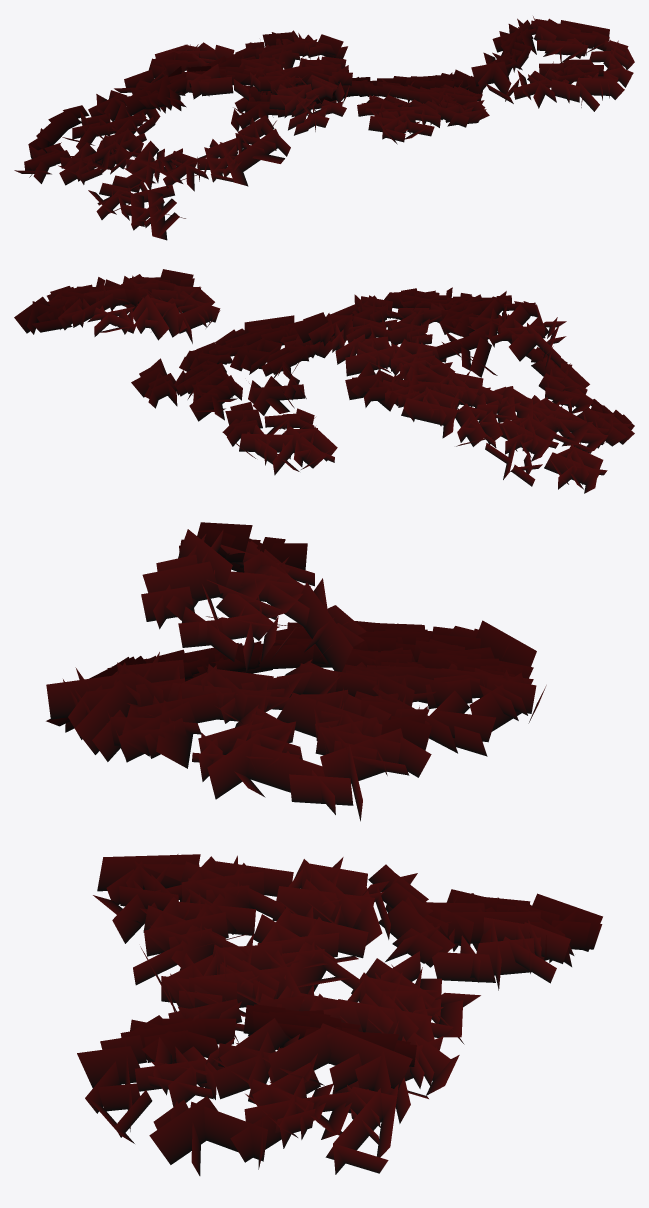
3 renders of one model, top to bottom at view 1: azimuth 30°, elevation 25°; view 2: azimuth 150°, elevation 25°; view 3: azimuth 270°, elevation 25°, orthographic. The views are drawn at different scales.
Visible parts, largest first — view 1: G:\FFXIV-MapTools\exports\d2f2\bg\ex1\02_dra_d2\fld\d2f2\bgp; view 2: G:\FFXIV-MapTools\exports\d2f2\bg\ex1\02_dra_d2\fld\d2f2\bgp; view 3: G:\FFXIV-MapTools\exports\d2f2\bg\ex1\02_dra_d2\fld\d2f2\bgp.
Part boxes in pixels (x1,y1,x2,y2): G:\FFXIV-MapTools\exports\d2f2\bg\ex1\02_dra_d2\fld\d2f2\bgp: (14, 16, 634, 240); G:\FFXIV-MapTools\exports\d2f2\bg\ex1\02_dra_d2\fld\d2f2\bgp: (14, 269, 634, 493); G:\FFXIV-MapTools\exports\d2f2\bg\ex1\02_dra_d2\fld\d2f2\bgp: (46, 522, 602, 1175).
Bounding box in the file's own units: 27.55 × 6.69 × 11.48.
